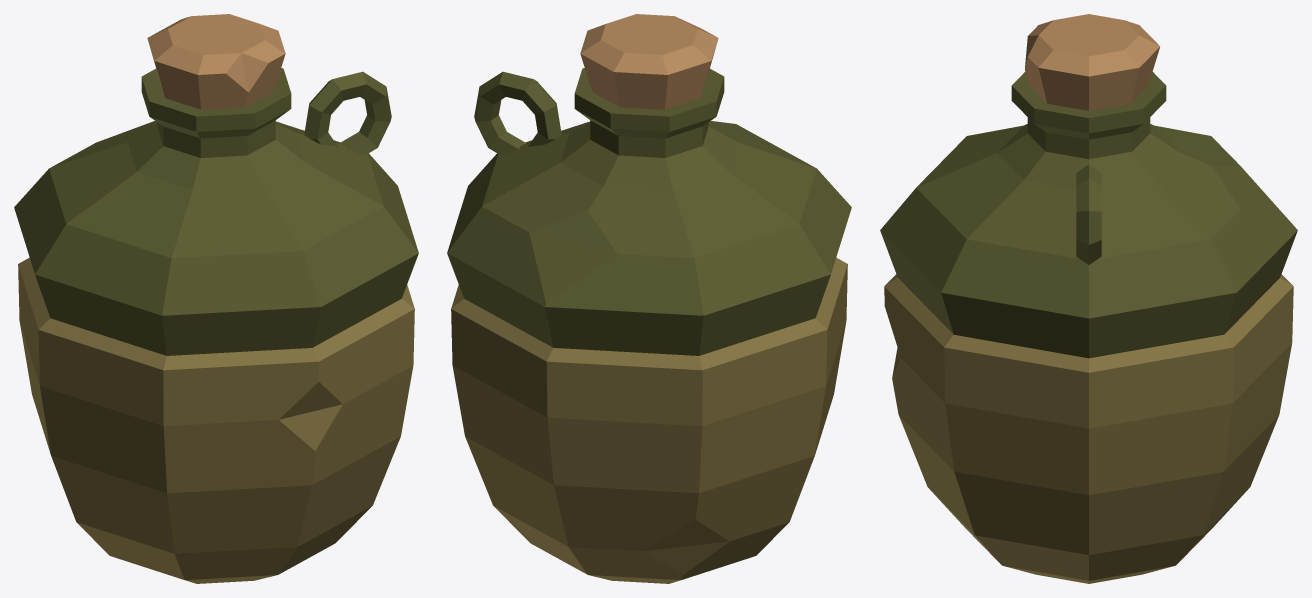
The model's file is SFHW_Jar_002.fbx.
3 renders of one model, left to right at view 1: azimuth 30°, elevation 25°; view 2: azimuth 150°, elevation 25°; view 3: azimuth 270°, elevation 25°, orthographic.
Visible parts, largest first — view 1: SFHW_Jar_002; view 2: SFHW_Jar_002; view 3: SFHW_Jar_002.
Boxes of the visible parts, x1,y1,x2,y2 form: SFHW_Jar_002: (14,14,418,583); SFHW_Jar_002: (447,14,851,583); SFHW_Jar_002: (880,14,1297,583).
Size of the model in its own units: 26.71 by 36.46 by 26.71.
